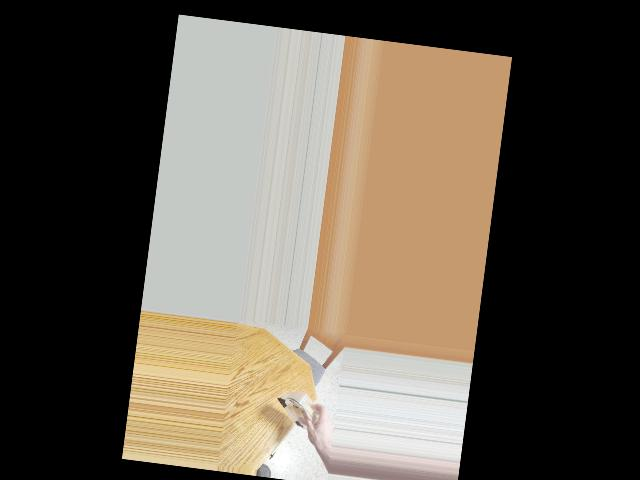cheese: (275, 380, 324, 445)
